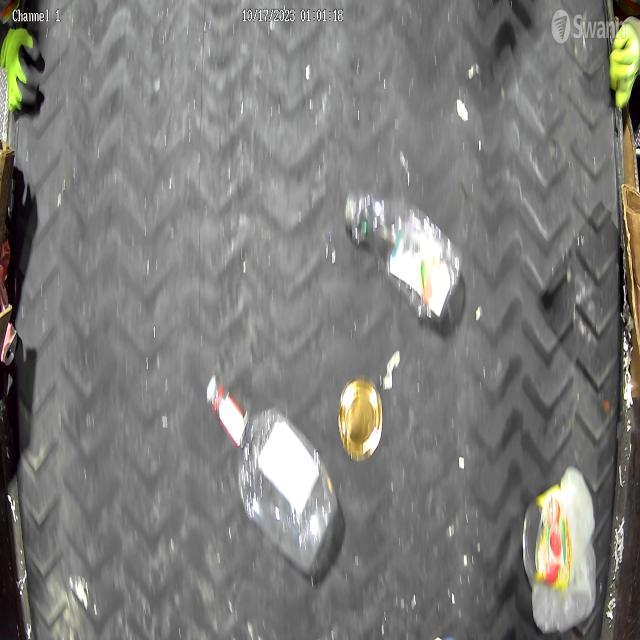can: (524, 489, 570, 585), (337, 377, 385, 463)
plastic_bottle: (206, 376, 338, 574), (344, 190, 460, 322)
